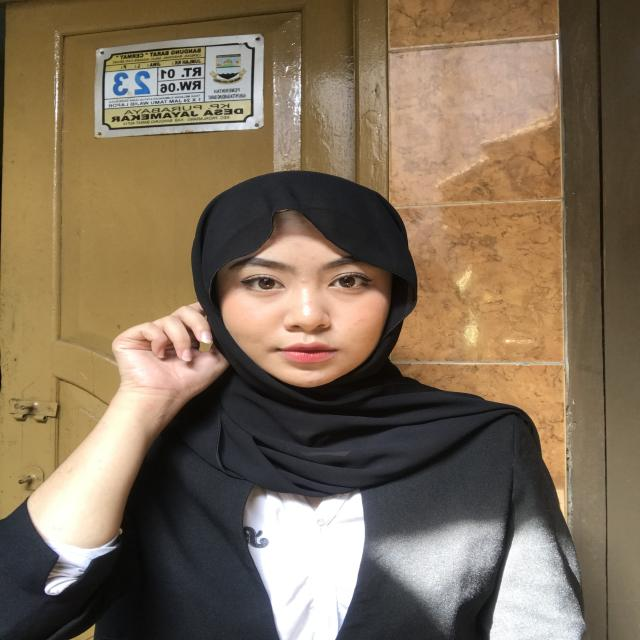ibu: (102, 292, 237, 456)
